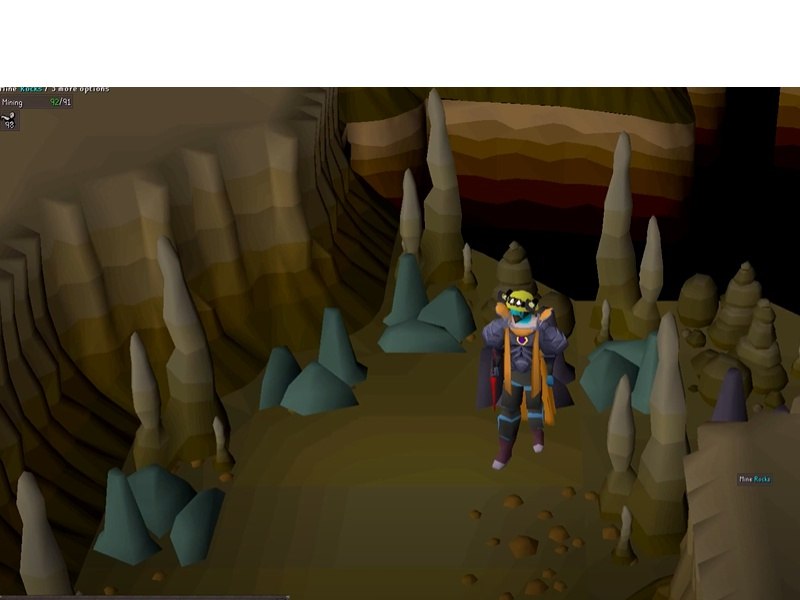adamant: (88, 459, 231, 573), (254, 302, 372, 420), (374, 247, 481, 360), (576, 327, 662, 420)
